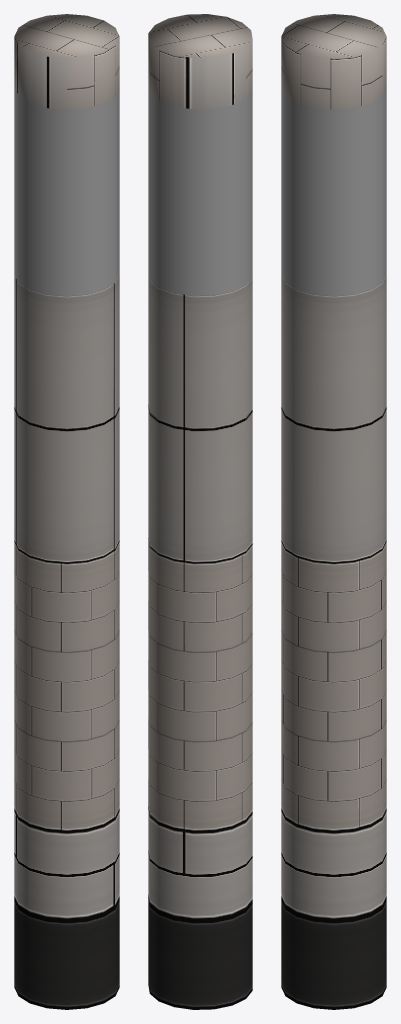
The model's file is Lightpost_1.fbx.
The picture shows the model from 3 angles, left to right: view 1: azimuth 90°, elevation 25°; view 2: azimuth 150°, elevation 25°; view 3: azimuth 270°, elevation 25°; orthographic projection.
Parts seen in each view (by area): view 1: Lightpost_1_lo_v1; view 2: Lightpost_1_lo_v1; view 3: Lightpost_1_lo_v1.
Part boxes in pixels (x1,y1,x2,y2): Lightpost_1_lo_v1: (14, 14, 119, 1009); Lightpost_1_lo_v1: (148, 14, 252, 1009); Lightpost_1_lo_v1: (281, 14, 386, 1009).
Bounding box in the file's own units: 10 × 100 × 10.
